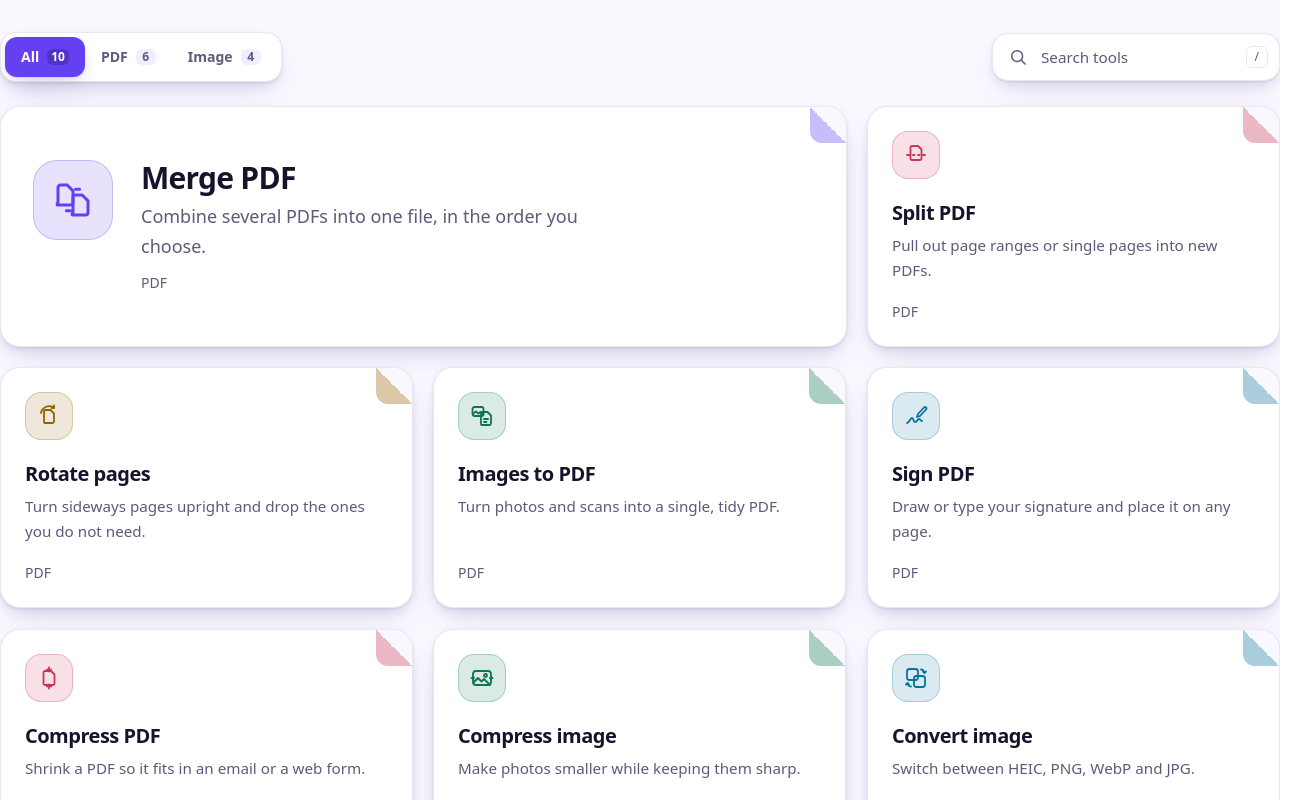
it: ToolBrowser › shows an empty state that resets everything
Step 1. Click the radio button labelled "PDF 6" → (128, 57), box [85,37,172,77]
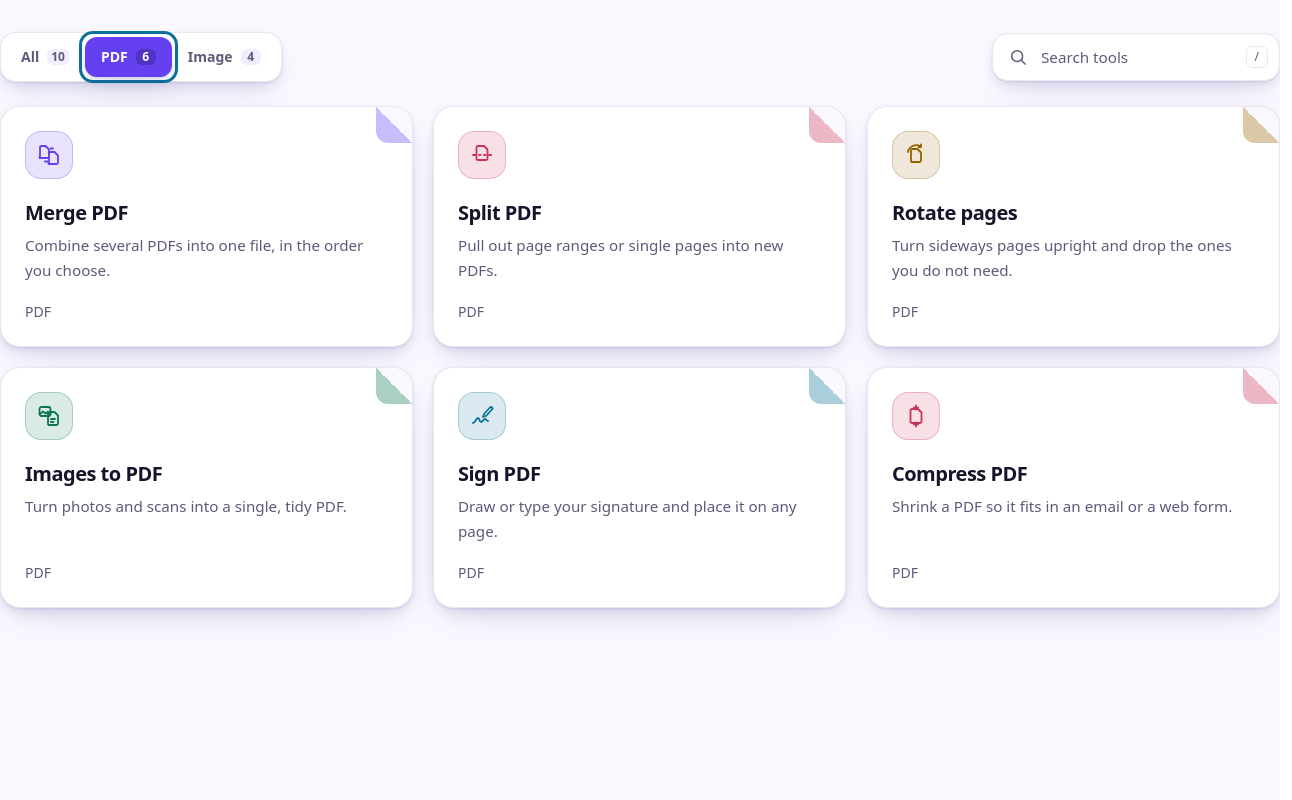
Step 2. Type "teleport" into the search field → (1136, 57), box [992,33,1280,81]
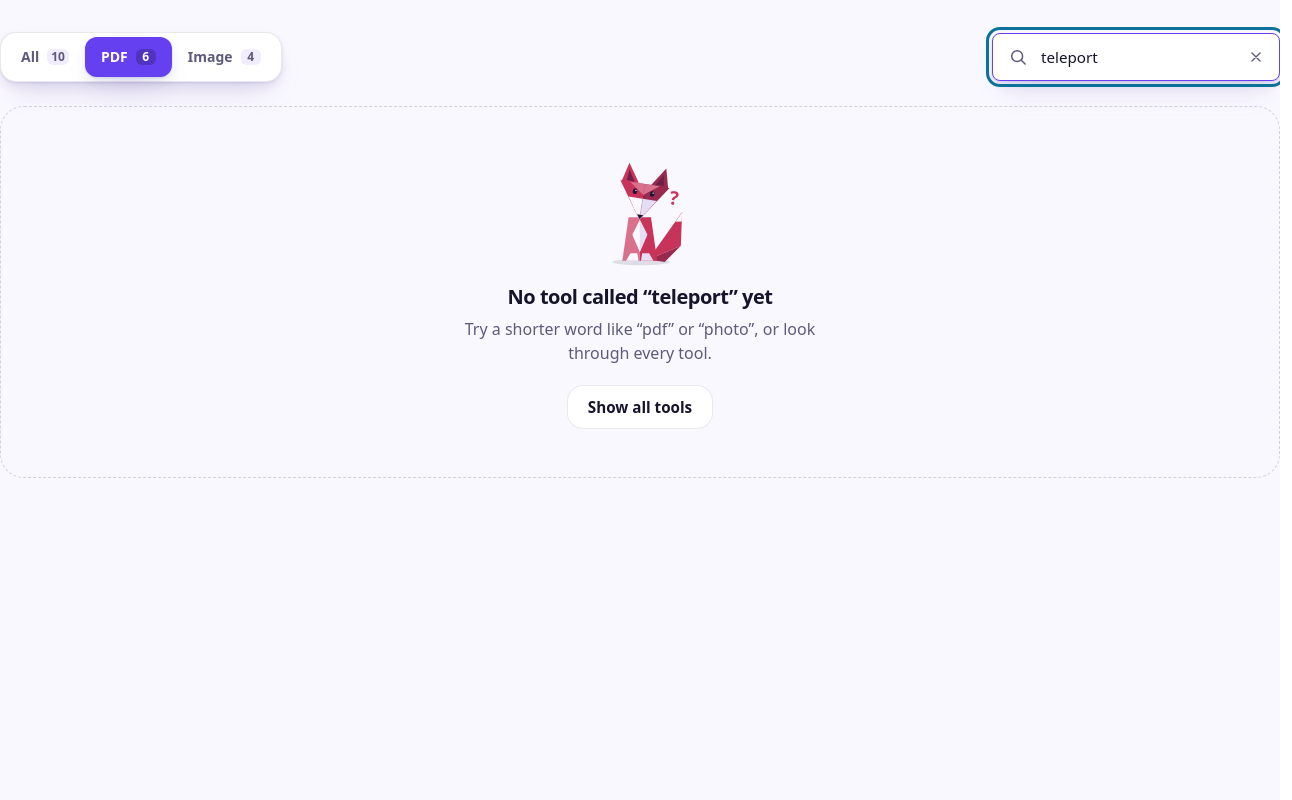
Check: the heading "No tool called “teleport” yet" is shown, box [508,283,772,311]
Step 3. Click the button "Show all tools" → (640, 407), box [567,385,713,429]
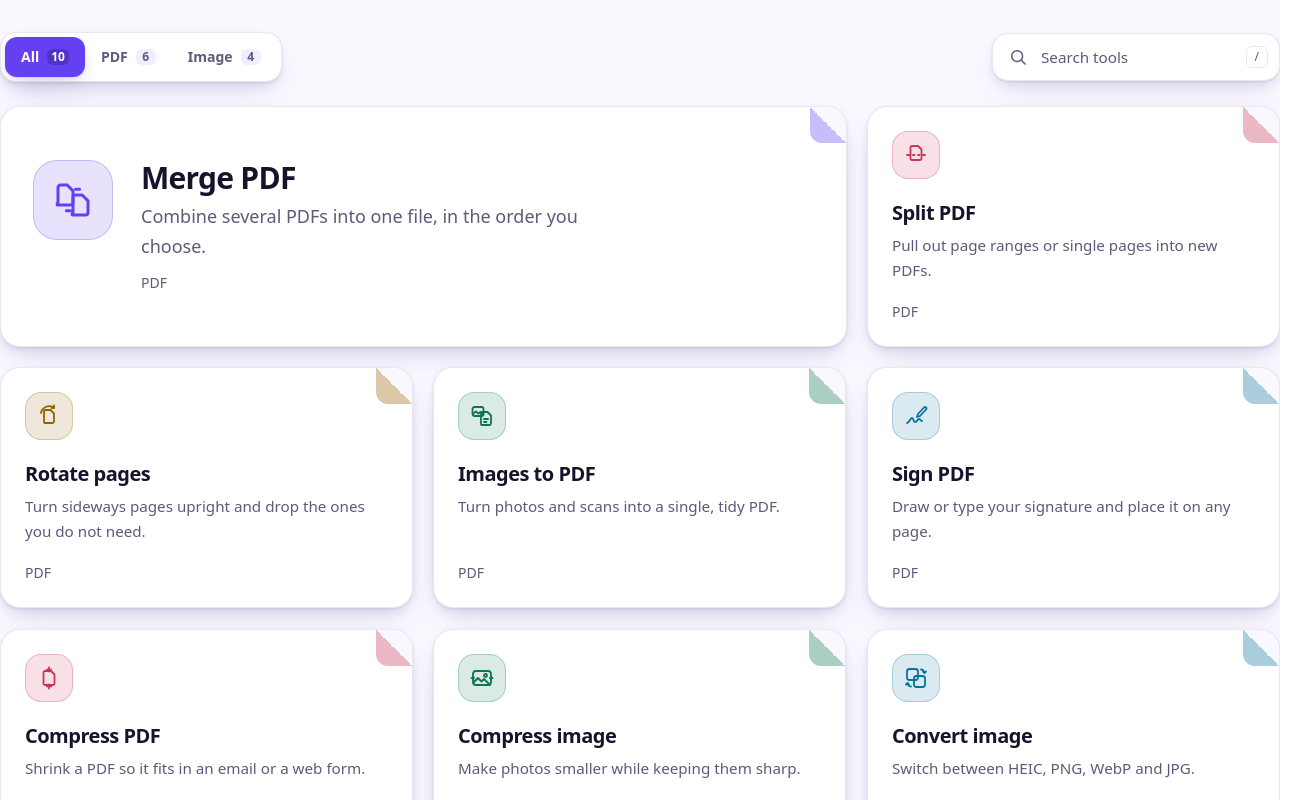
Check: the search field is empty, box [992,33,1280,81]
Check: the radio button labelled "All 10" is checked, box [5,37,85,77]
